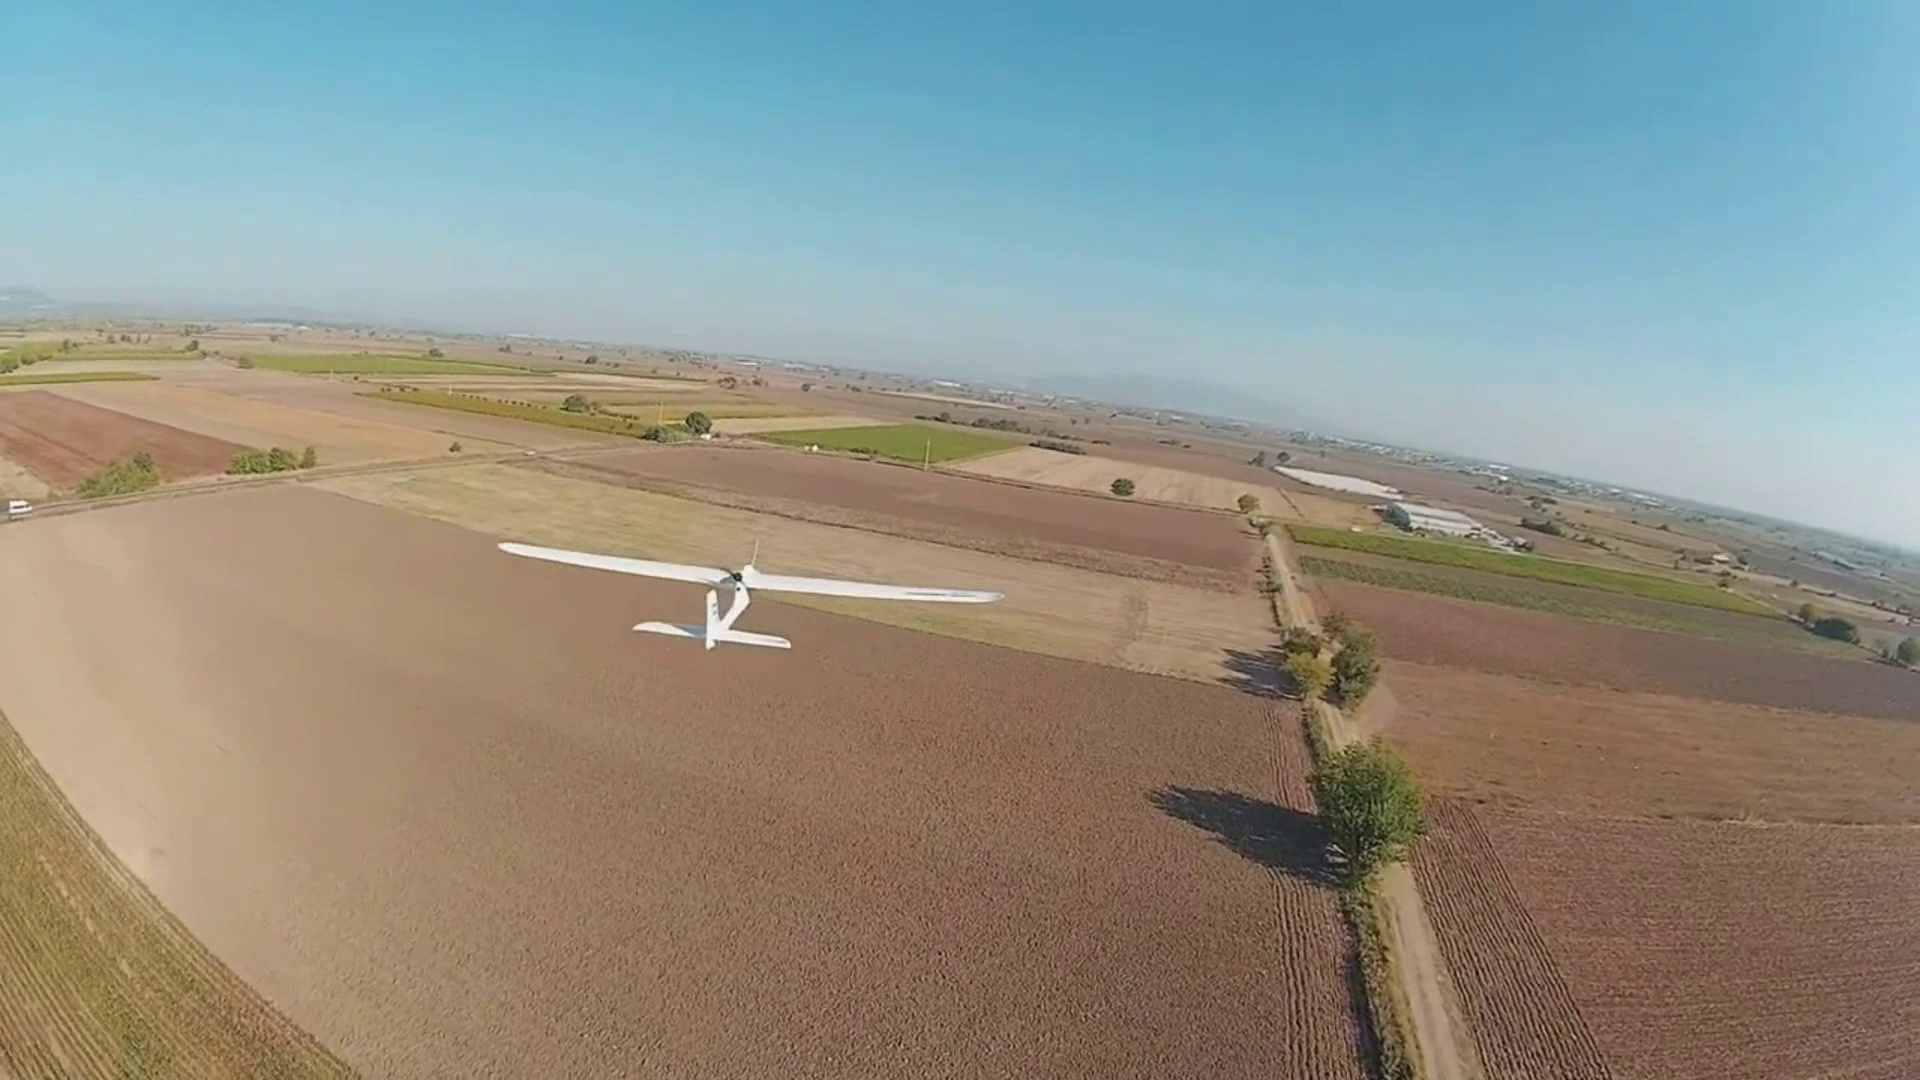airplane: (498, 541, 996, 653)
